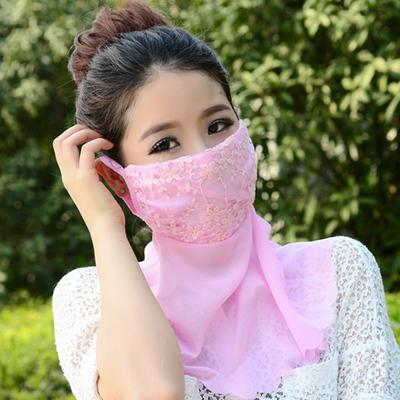OK: (113, 99, 259, 245)
